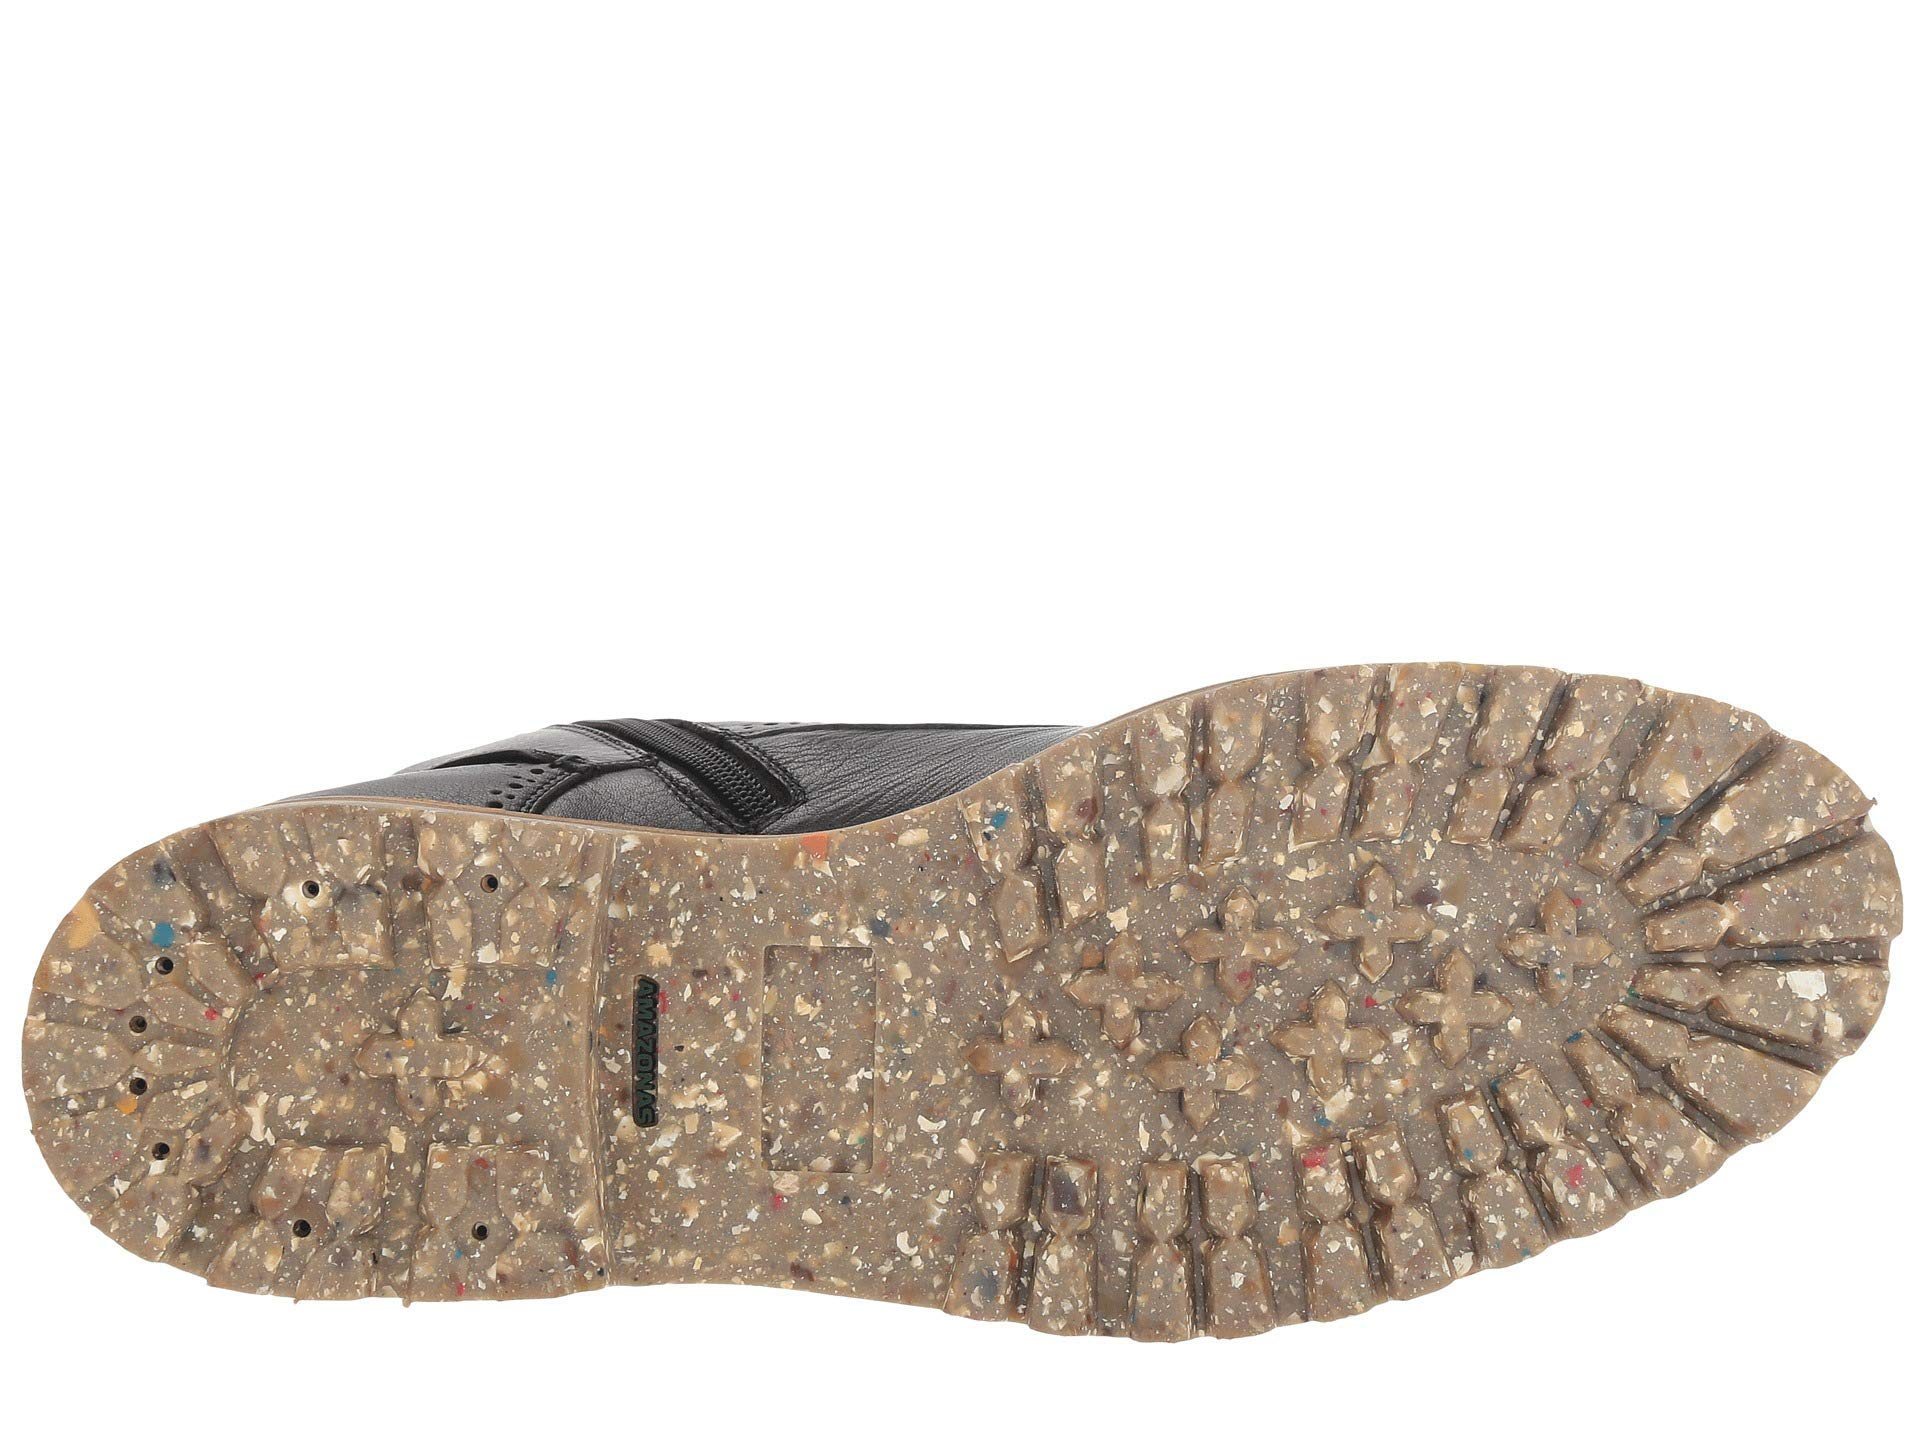bowtie: (1453, 616, 1807, 939), (15, 959, 272, 1287), (1430, 647, 1652, 876), (1430, 1054, 1640, 1277), (1011, 1139, 1203, 1348), (200, 1122, 401, 1316), (215, 793, 408, 982), (1116, 697, 1284, 898)
circle: (15, 959, 272, 1287)
star: (1161, 880, 1436, 1184), (1175, 871, 1407, 1125), (934, 938, 1169, 1137), (351, 980, 491, 1121), (1489, 880, 1621, 1012)
